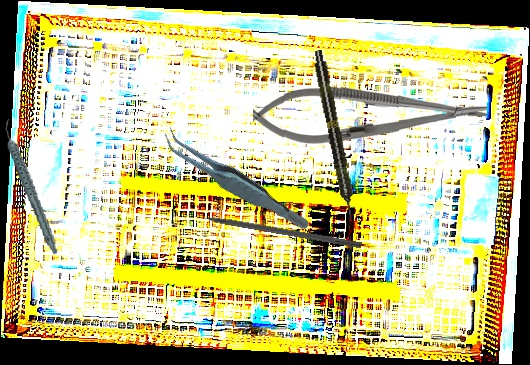Handpiece: (310, 49, 359, 222), (2, 114, 60, 259)
Hook Surgical: (185, 209, 363, 249)
Needle Holder: (252, 83, 488, 147)
Tissue Forceps: (158, 104, 312, 258)
